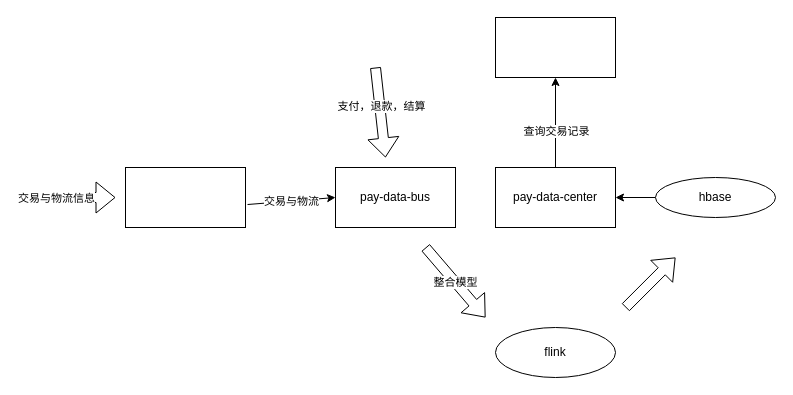
Image size: 793x395. Some labels were removed from this diagram. Here are the shapes that lost their labels. From the top down, the centre of each, then its label:
the point at 555,47: data-access
the point at 185,197: 主站yz-pay-data
